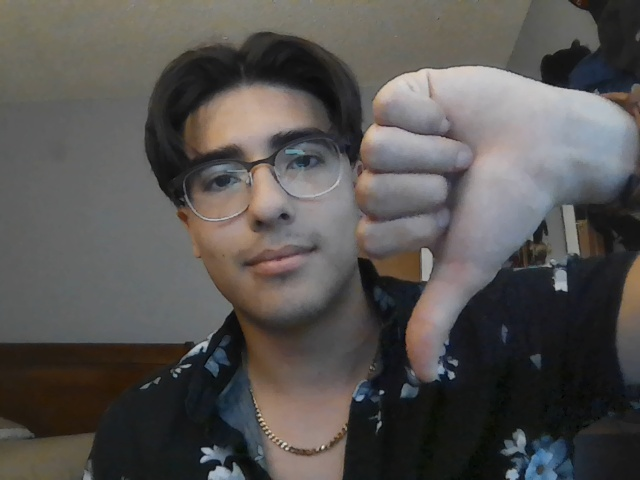ThumbsDown: (355, 66, 640, 383)
